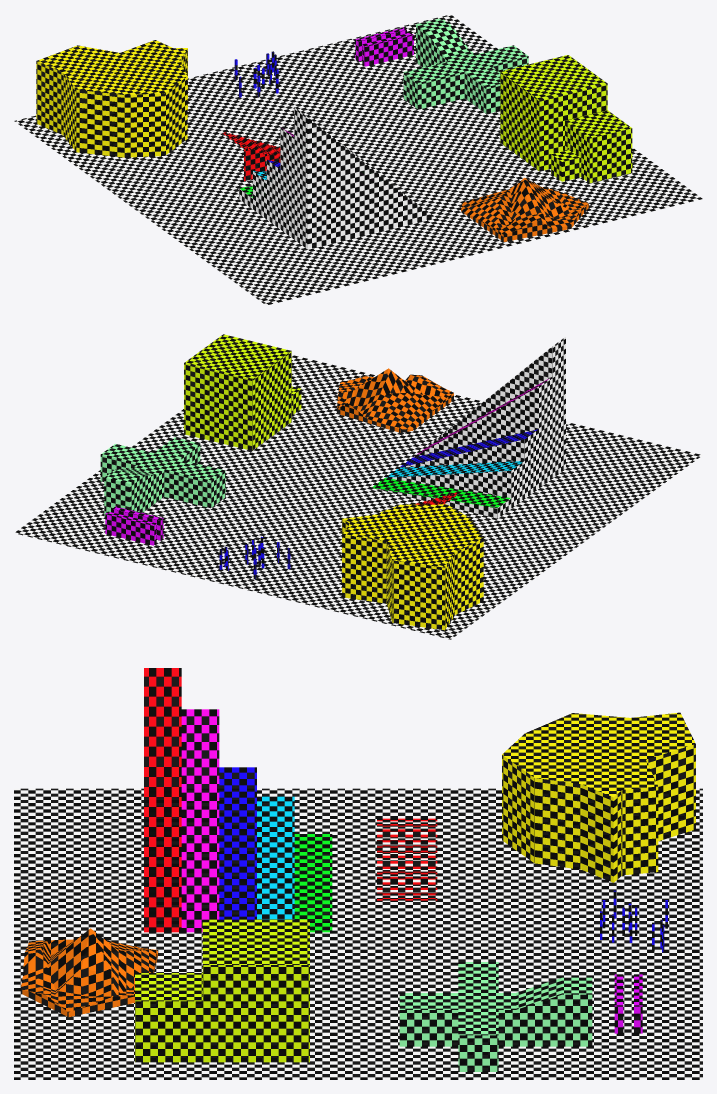
The model's file is TestLevel.glb.
3 renders of one model, top to bottom at view 1: azimuth 30°, elevation 25°; view 2: azimuth 150°, elevation 25°; view 3: azimuth 270°, elevation 25°, orthographic. The views are drawn at different scales.
Parts seen in each view (by area): view 1: Plane; view 2: Plane; view 3: Plane.
Part boxes in pixels (x1,y1,x2,y2): Plane: (14,14,702,305); Plane: (14,334,702,639); Plane: (14,668,702,1079).
Size of the model in its own units: 45.66 by 13.17 by 45.66.
Materials: 1 (1 with a texture image).
